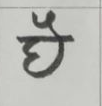ai_matra: (31, 10, 66, 36)
